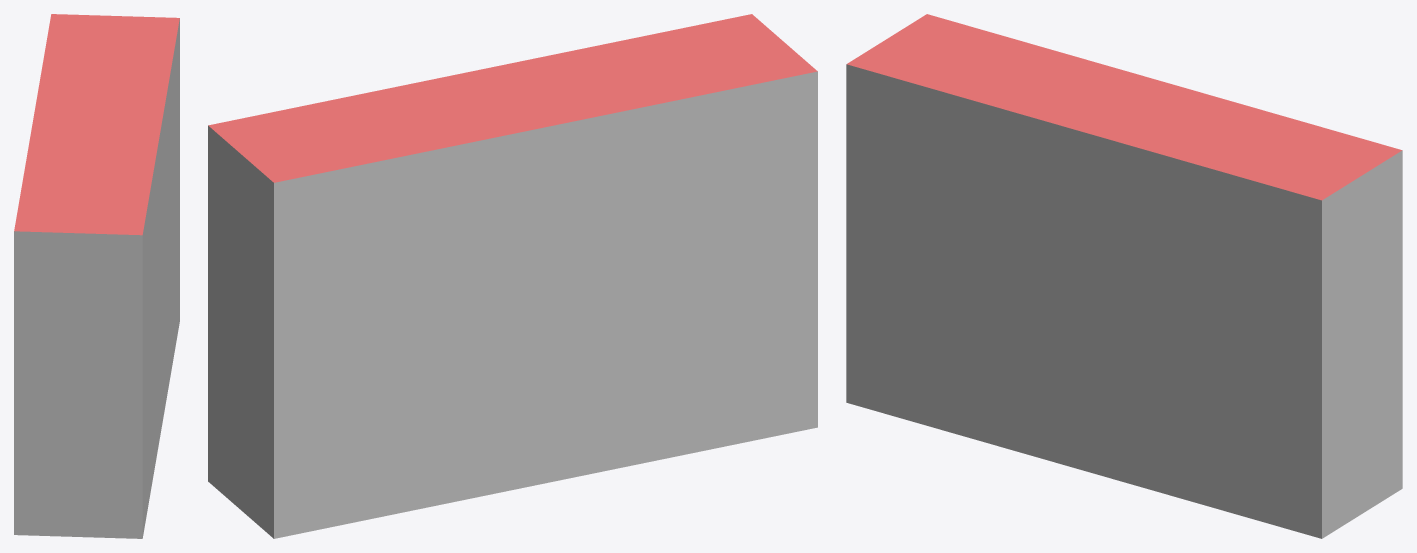
File: ID_2f6a6170-eb79-40b7-8faa-5a3ec482698b.gltf
3 renders of one model, left to right at view 1: azimuth 30°, elevation 25°; view 2: azimuth 150°, elevation 25°; view 3: azimuth 270°, elevation 25°, orthographic. The views are drawn at different scales.
Parts seen in each view (by area): view 1: Z_UP; view 2: Z_UP; view 3: Z_UP.
Part boxes in pixels (left/top/right/bottom): Z_UP: left=14, top=14, right=179, bottom=538; Z_UP: left=208, top=14, right=817, bottom=538; Z_UP: left=846, top=14, right=1402, bottom=538.
Size of the model in its own units: 15.36 by 13 by 19.36.
